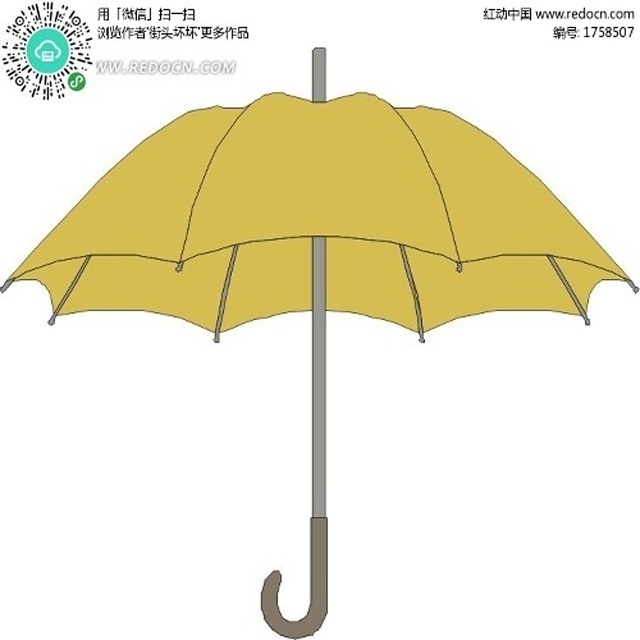umbrella: (1, 44, 640, 640)
